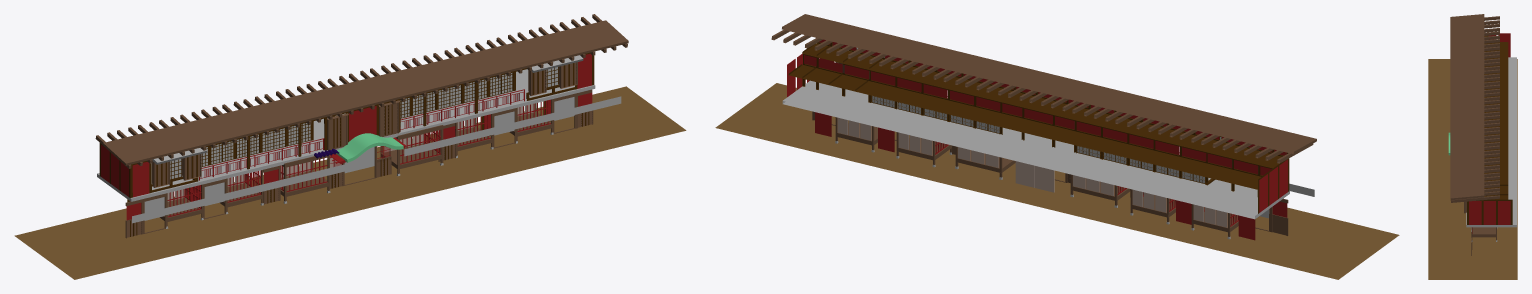
The model's file is yuukaku.fbx.
3 views of the same model, side by side, from view 1: azimuth 30°, elevation 25°; view 2: azimuth 150°, elevation 25°; view 3: azimuth 270°, elevation 25° (orthographic). The views are drawn at different scales.
Parts seen in each view (by area): view 1: first_ground, polySurface403, second_ground, polySurface279, polySurface407, polySurface281, pPlane17, pPlane6, light_room1, light_window1, left_window, left_room4 (+15 smaller); view 2: first_ground, polySurface407, second_ground, polySurface403, polySurface281, polySurface279, light_room2, left_room3, left_room2, light_room1, left_room4, door (+2 smaller); view 3: first_ground, polySurface403, polySurface281, polySurface407, second_ground, polySurface414, polySurface413, polySurface412, light_room3, polySurface415.
Boxes of the visible parts, <box> form: first_ground: <box>14,86,686,279</box>; polySurface403: <box>103,20,628,165</box>; second_ground: <box>97,69,595,201</box>; polySurface279: <box>201,72,512,166</box>; polySurface407: <box>130,53,594,197</box>; polySurface281: <box>95,14,627,168</box>; pPlane17: <box>404,96,621,156</box>; pPlane6: <box>132,163,348,223</box>; light_room1: <box>380,125,443,176</box>; light_window1: <box>528,55,583,95</box>; left_window: <box>152,148,207,187</box>; left_room4: <box>280,154,330,203</box>; first_ground: <box>715,83,1399,279</box>; polySurface407: <box>788,42,1288,196</box>; second_ground: <box>782,80,1289,219</box>; polySurface403: <box>782,14,1316,154</box>; polySurface281: <box>771,30,1313,163</box>; polySurface279: <box>871,95,1205,183</box>; light_room2: <box>896,132,951,167</box>; left_room3: <box>1191,204,1238,239</box>; left_room2: <box>1130,189,1175,224</box>; light_room1: <box>955,146,1015,179</box>; left_room4: <box>1070,174,1130,207</box>; door: <box>1015,161,1054,192</box>; first_ground: <box>1428,59,1517,279</box>; polySurface403: <box>1450,14,1484,199</box>; polySurface281: <box>1450,16,1499,202</box>; polySurface407: <box>1484,35,1508,199</box>; second_ground: <box>1466,57,1516,227</box>; polySurface414: <box>1496,199,1512,224</box>; polySurface413: <box>1481,199,1495,224</box>; polySurface412: <box>1467,200,1481,224</box>; light_room3: <box>1471,227,1497,241</box>; polySurface415: <box>1498,33,1510,57</box>.
Size of the model in its own units: 422 by 62.69 by 72.15.
